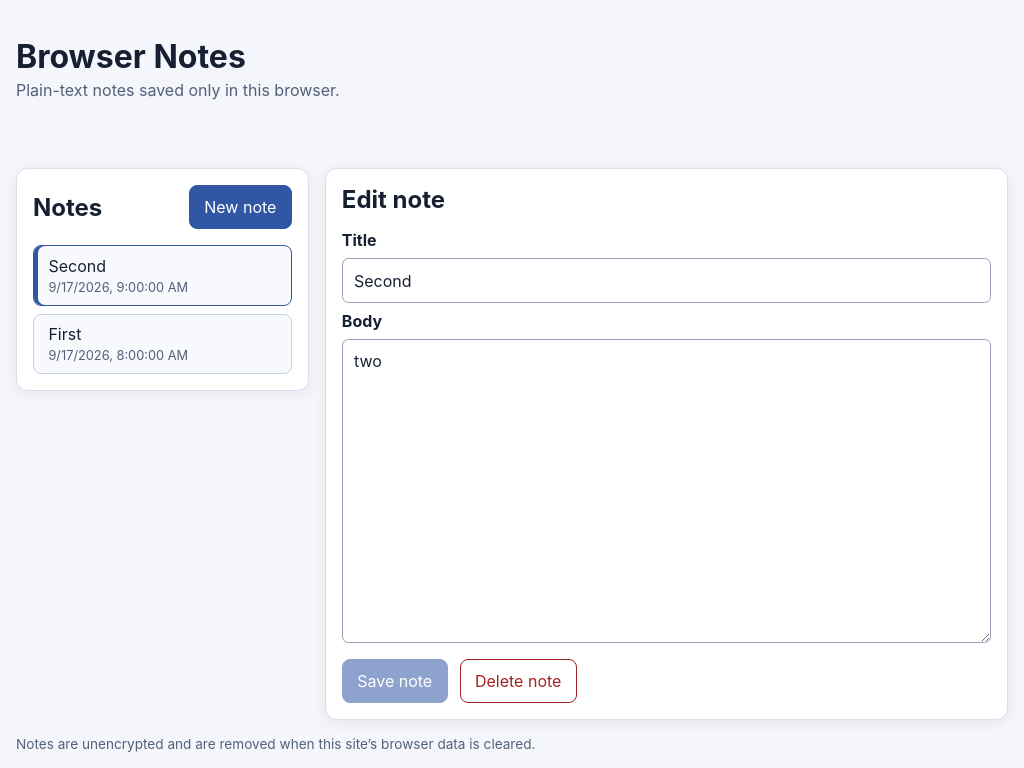
Browser Notes application › preserves the visible list, selection, and exact dirty draft after a delete conflict
Replace the text in the text box labelled "Body" with "conflict delete draft" at (666, 491), box [342,339,991,643]
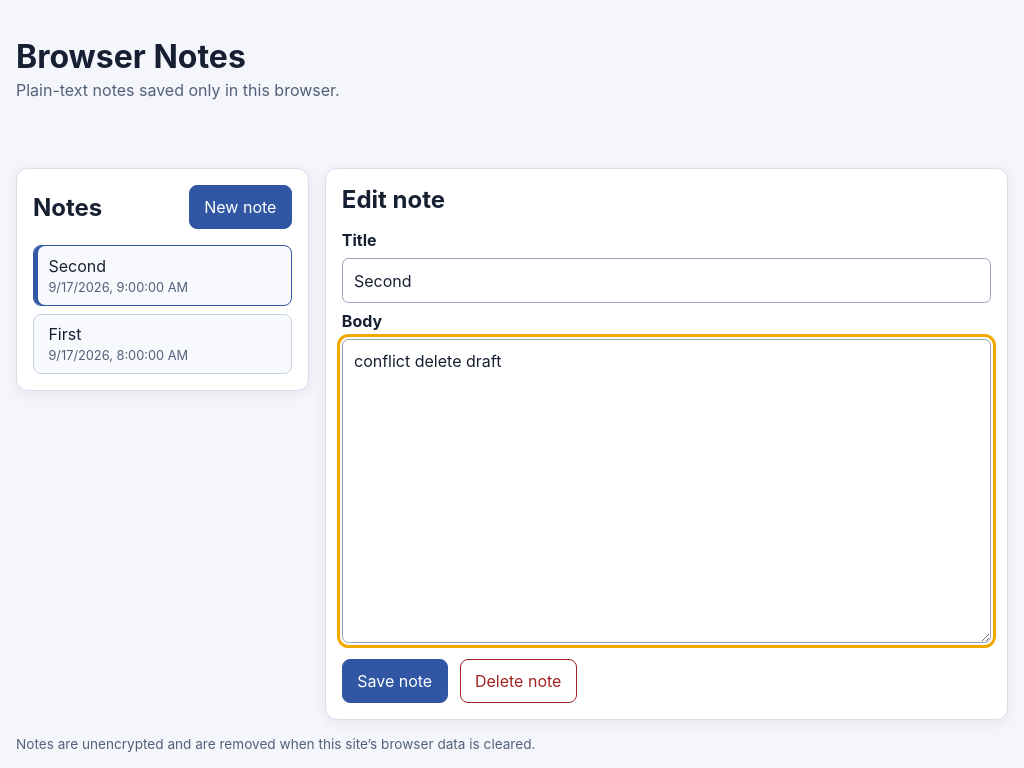
Click the button "Delete note" at (518, 681), box [460,659,577,703]
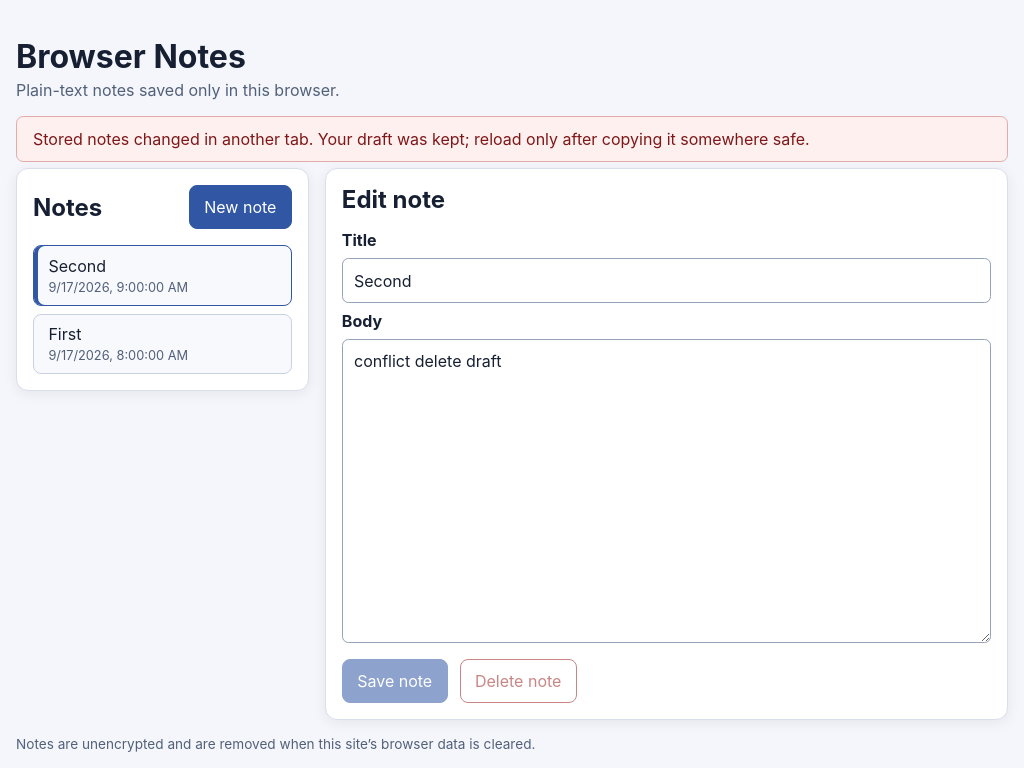
Result: the message shows "another tab" at [33,129,810,149]
Result: the button "Save note" is disabled at [342,659,448,703]
Result: the button "Delete note" is disabled at [460,659,577,703]
